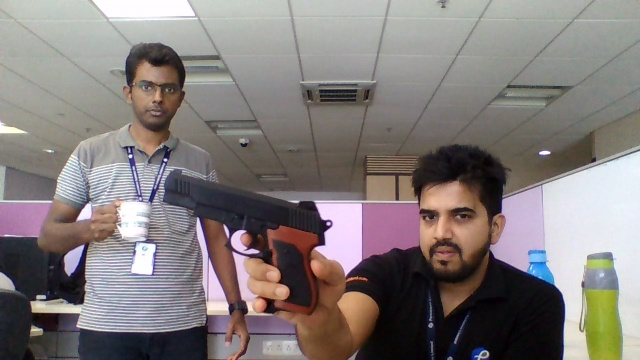gun: (161, 168, 331, 252)
